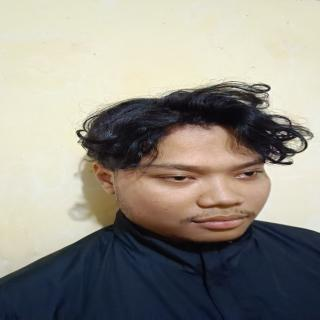Netral: (112, 115, 283, 251)
